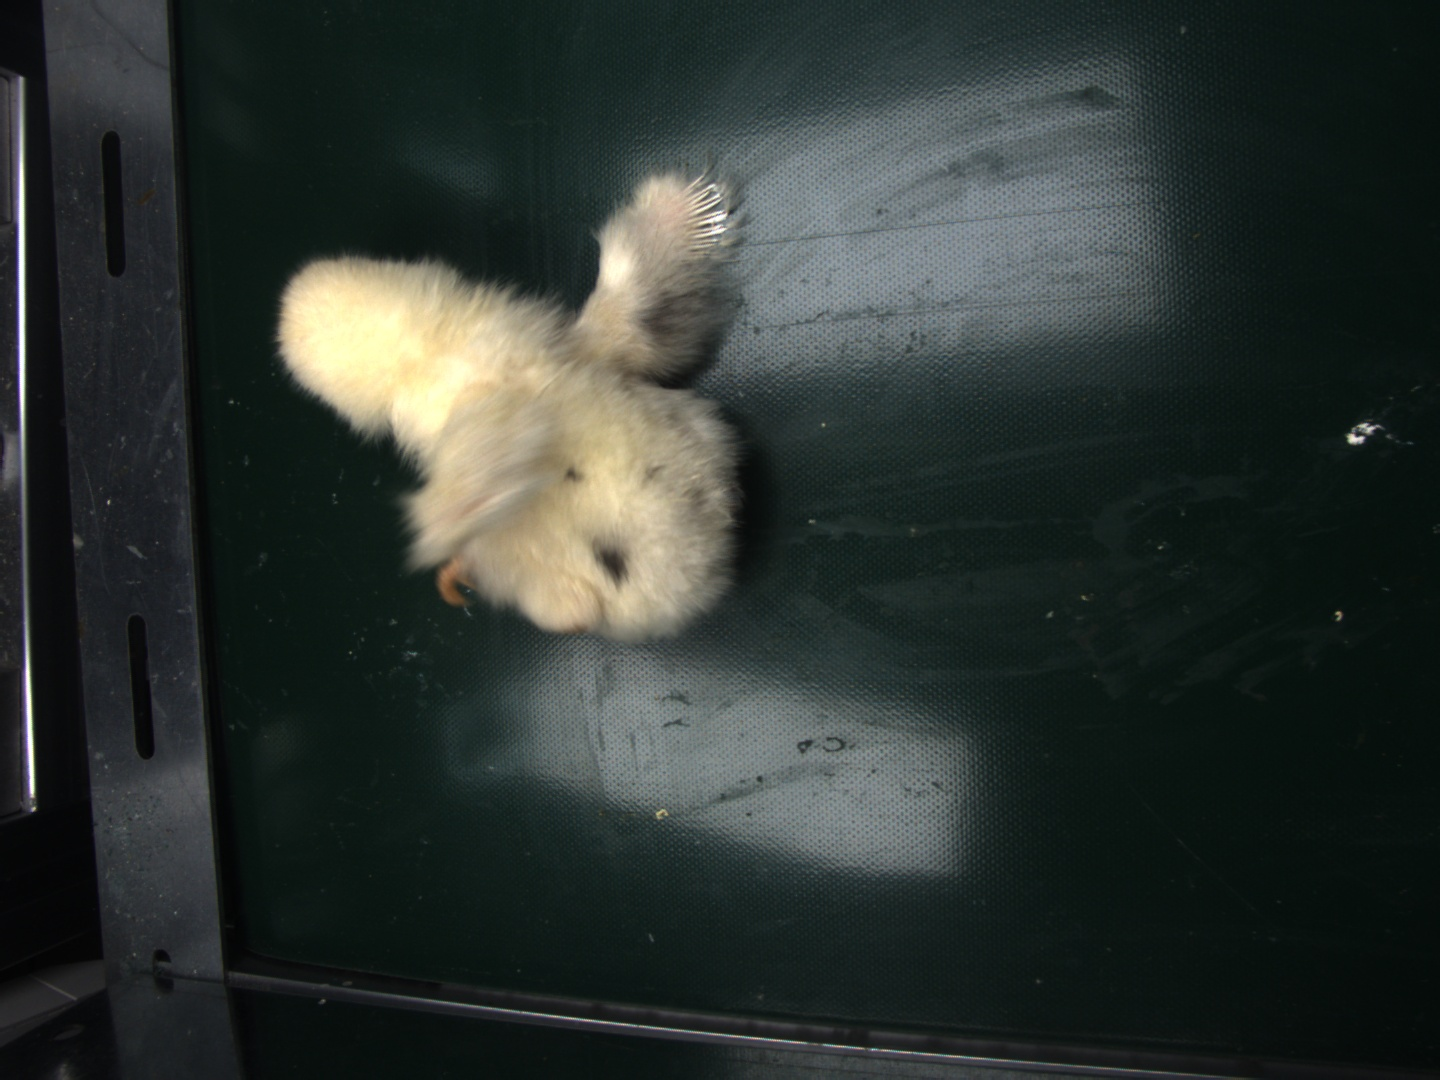male: (681, 174, 736, 256)
